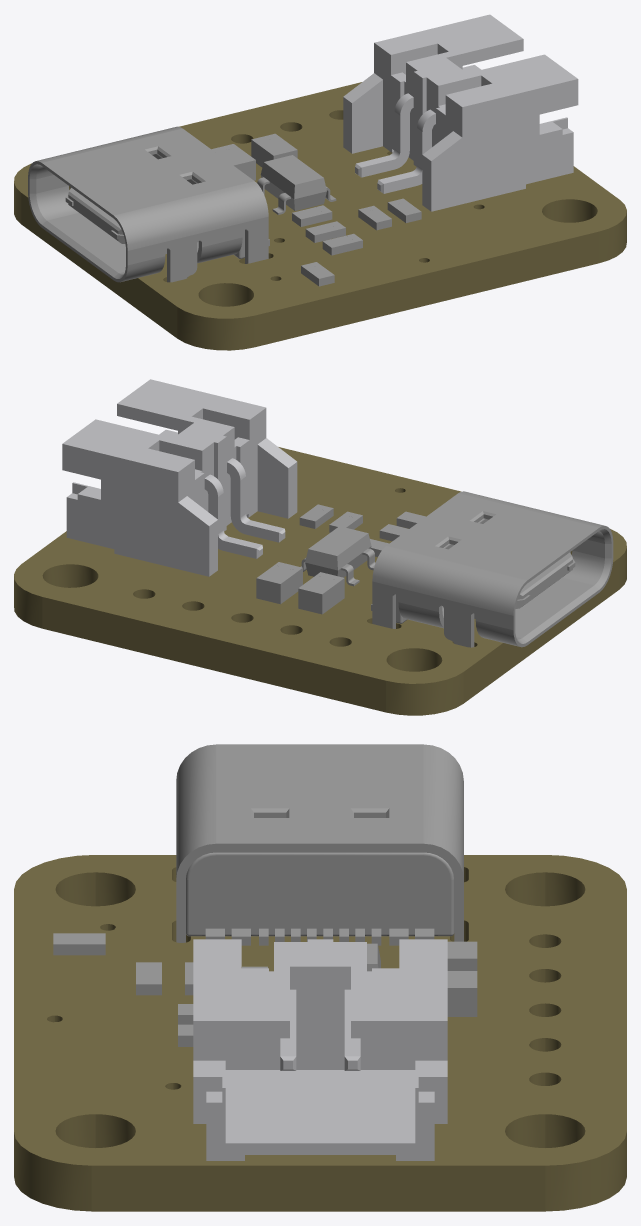
Rendered from ada-4410.glb.
3 views of the same model, one above another, from view 1: azimuth 30°, elevation 25°; view 2: azimuth 150°, elevation 25°; view 3: azimuth 270°, elevation 25° (orthographic). The views are drawn at different scales.
Parts seen in each view (by area): view 1: 0.16666666666666666_0.16666666666666666_0.08333333333333333_, 0.3333333333333333_0.3333333333333333_0.3333333333333333_0, 0.5833333333333334_0.5833333333333334_0.5833333333333334_0.8; view 2: 0.16666666666666666_0.16666666666666666_0.08333333333333333_, 0.3333333333333333_0.3333333333333333_0.3333333333333333_0, 0.5833333333333334_0.5833333333333334_0.5833333333333334_0.8; view 3: 0.16666666666666666_0.16666666666666666_0.08333333333333333_, 0.3333333333333333_0.3333333333333333_0.3333333333333333_0, 0.5833333333333334_0.5833333333333334_0.5833333333333334_0.8.
Part boxes in pixels (left/top/right/bottom): 0.16666666666666666_0.16666666666666666_0.08333333333333333_: left=14, top=82, right=626, bottom=350; 0.3333333333333333_0.3333333333333333_0.3333333333333333_0: left=28, top=126, right=421, bottom=286; 0.5833333333333334_0.5833333333333334_0.5833333333333334_0.8: left=343, top=14, right=578, bottom=211; 0.16666666666666666_0.16666666666666666_0.08333333333333333_: left=14, top=447, right=626, bottom=715; 0.3333333333333333_0.3333333333333333_0.3333333333333333_0: left=256, top=491, right=613, bottom=647; 0.5833333333333334_0.5833333333333334_0.5833333333333334_0.8: left=62, top=379, right=297, bottom=576; 0.16666666666666666_0.16666666666666666_0.08333333333333333_: left=14, top=855, right=626, bottom=1211; 0.3333333333333333_0.3333333333333333_0.3333333333333333_0: left=53, top=744, right=477, bottom=1046; 0.5833333333333334_0.5833333333333334_0.5833333333333334_0.8: left=193, top=939, right=447, bottom=1160.
Size of the model in its own units: 2.4 by 0.6371 by 1.91.
